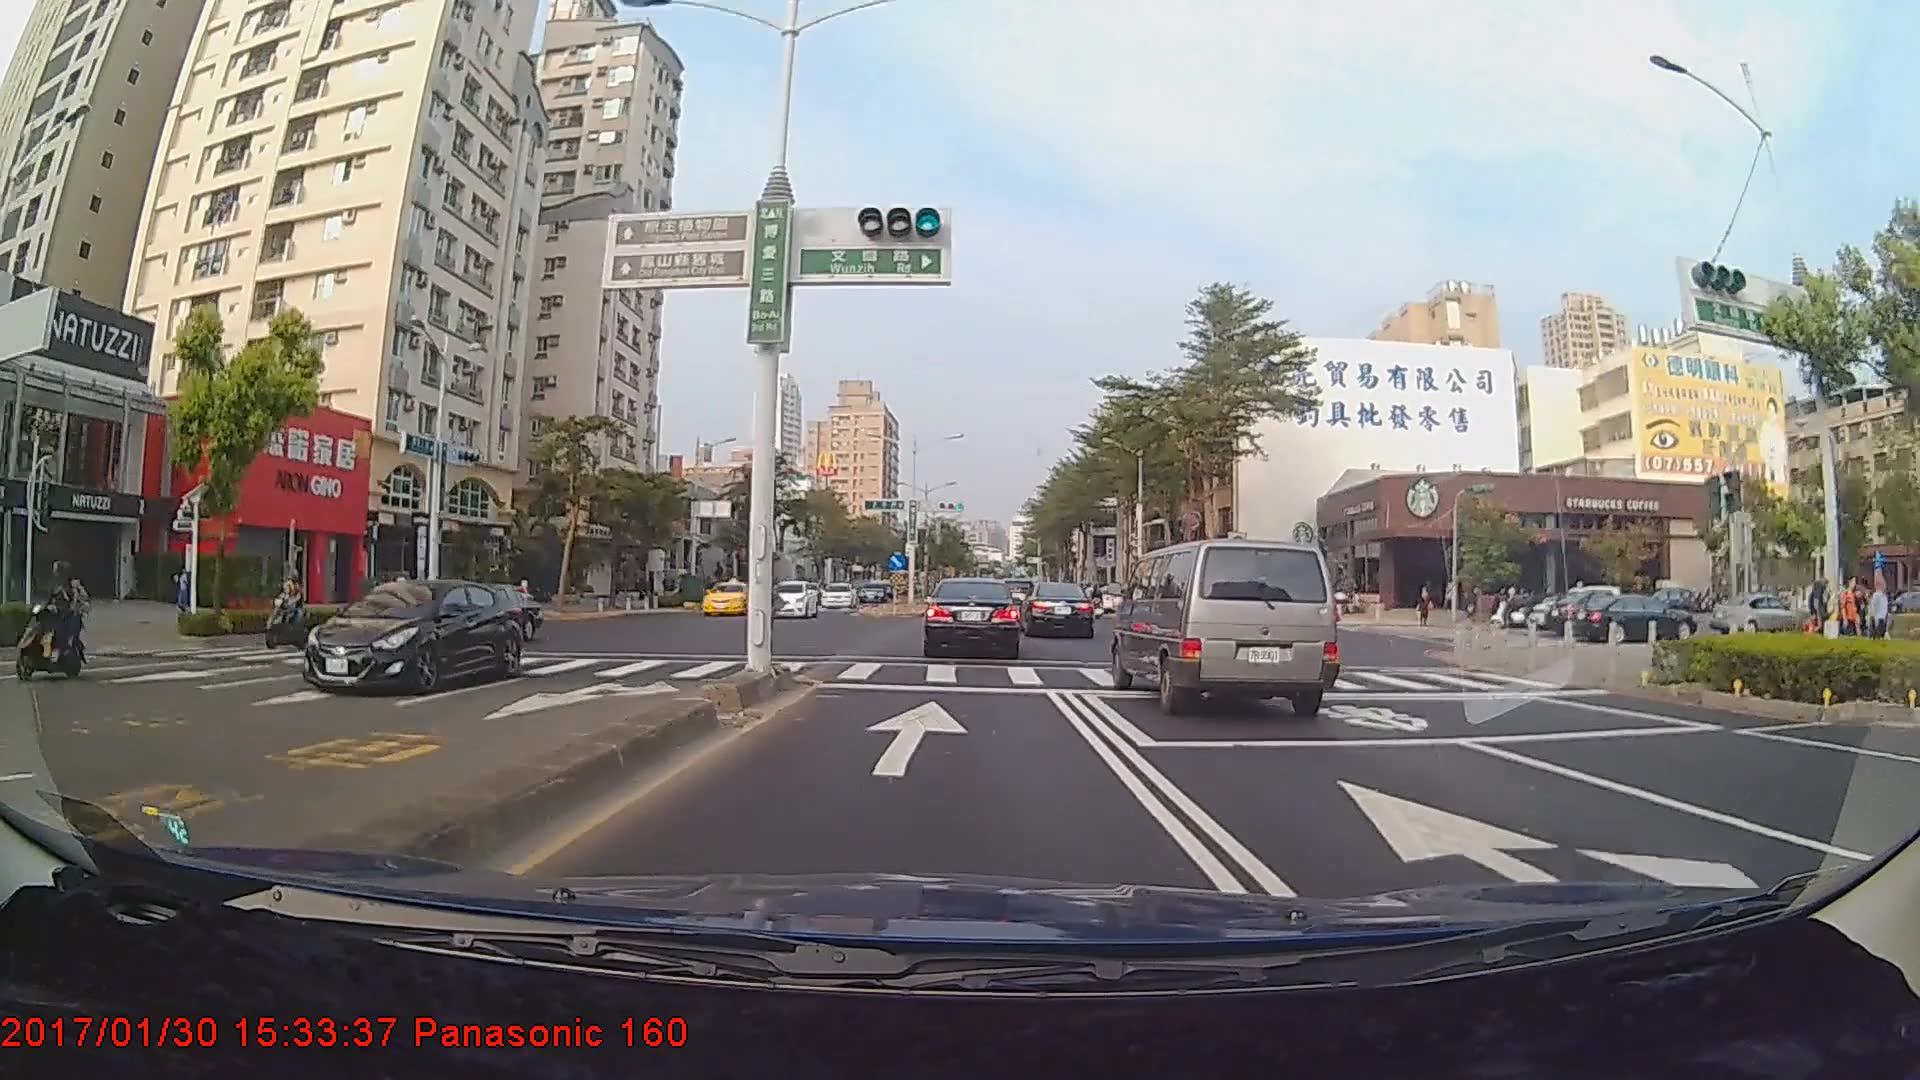pedestrian: (1804, 567, 1832, 656), (1835, 577, 1859, 653), (1871, 580, 1891, 649)
rider: (7, 559, 104, 681), (262, 578, 325, 652), (1488, 583, 1536, 630)
vehicle: (1120, 534, 1341, 717), (299, 579, 525, 696), (922, 577, 1022, 658), (1579, 585, 1709, 646), (1711, 588, 1804, 640), (1021, 581, 1094, 639), (762, 579, 821, 620), (701, 579, 760, 617), (817, 583, 856, 611)
